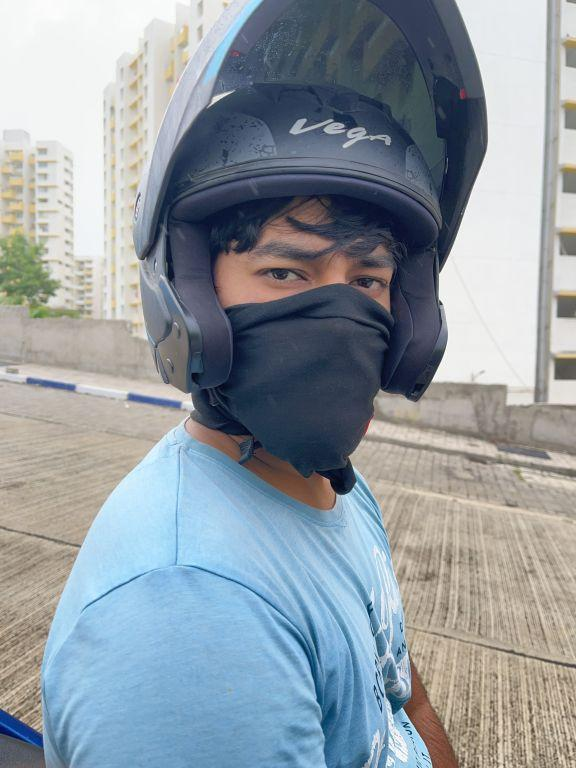helmet: (115, 0, 505, 470)
